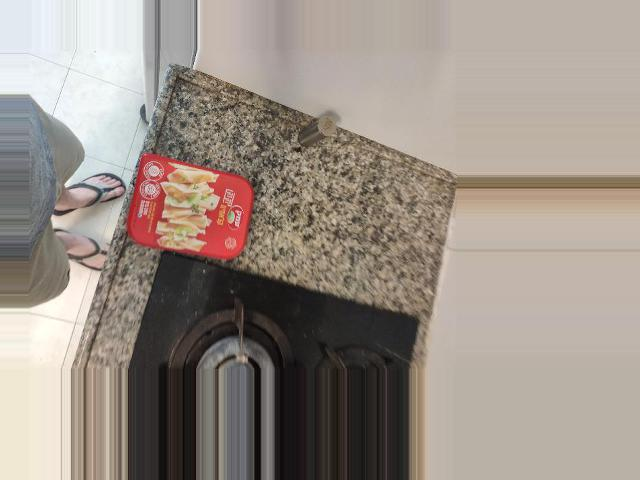cheese: (230, 164, 386, 292)
